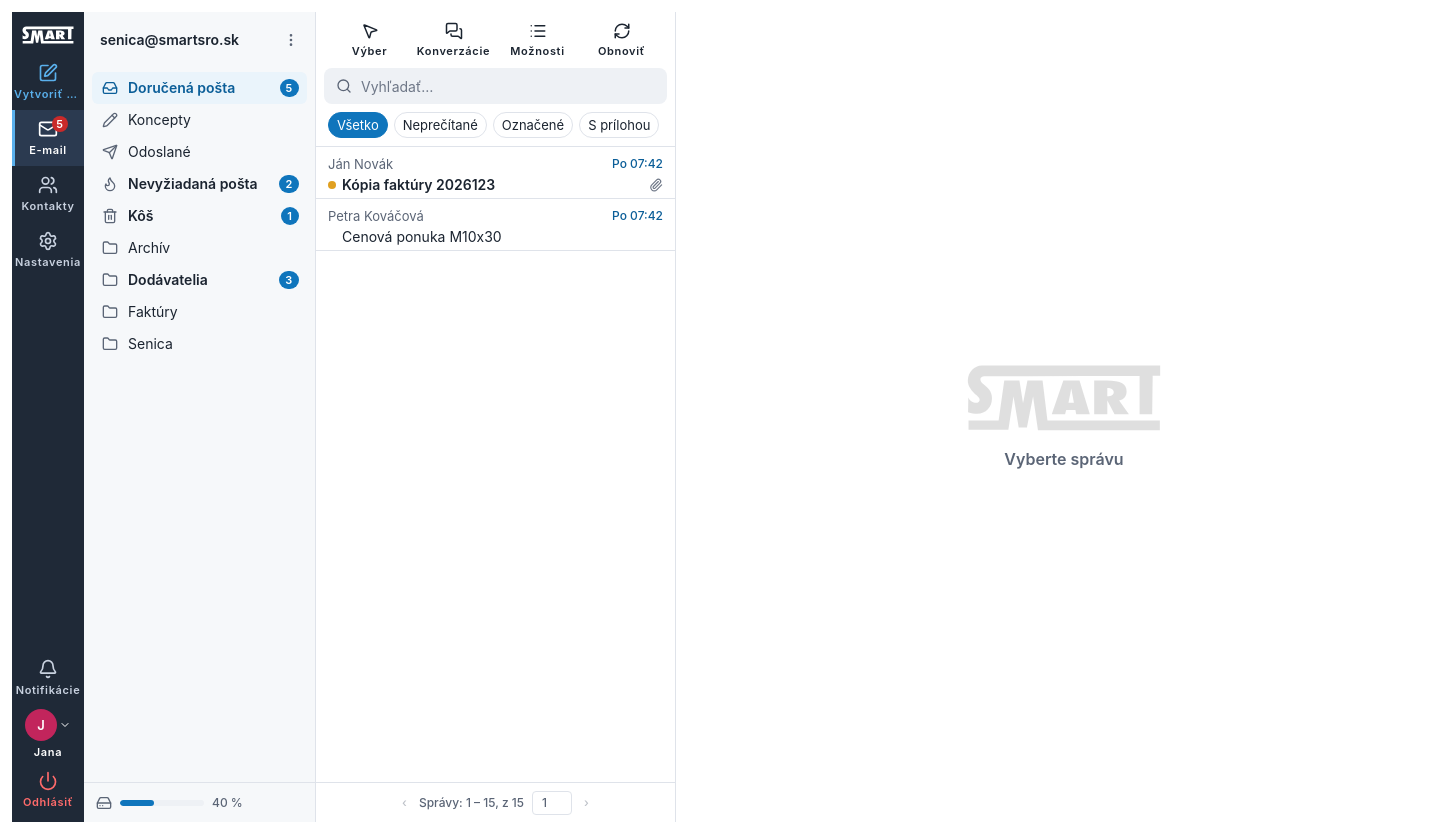
Test: W2b PersonChip › W2b one click in "Kto pracuje?" switches the person and shows the toast
This screenshot has width=1452, height=822.
Click the button with aria-label "Pracuje: Jana Nováková" at point(48, 734), box [12,704,84,764]
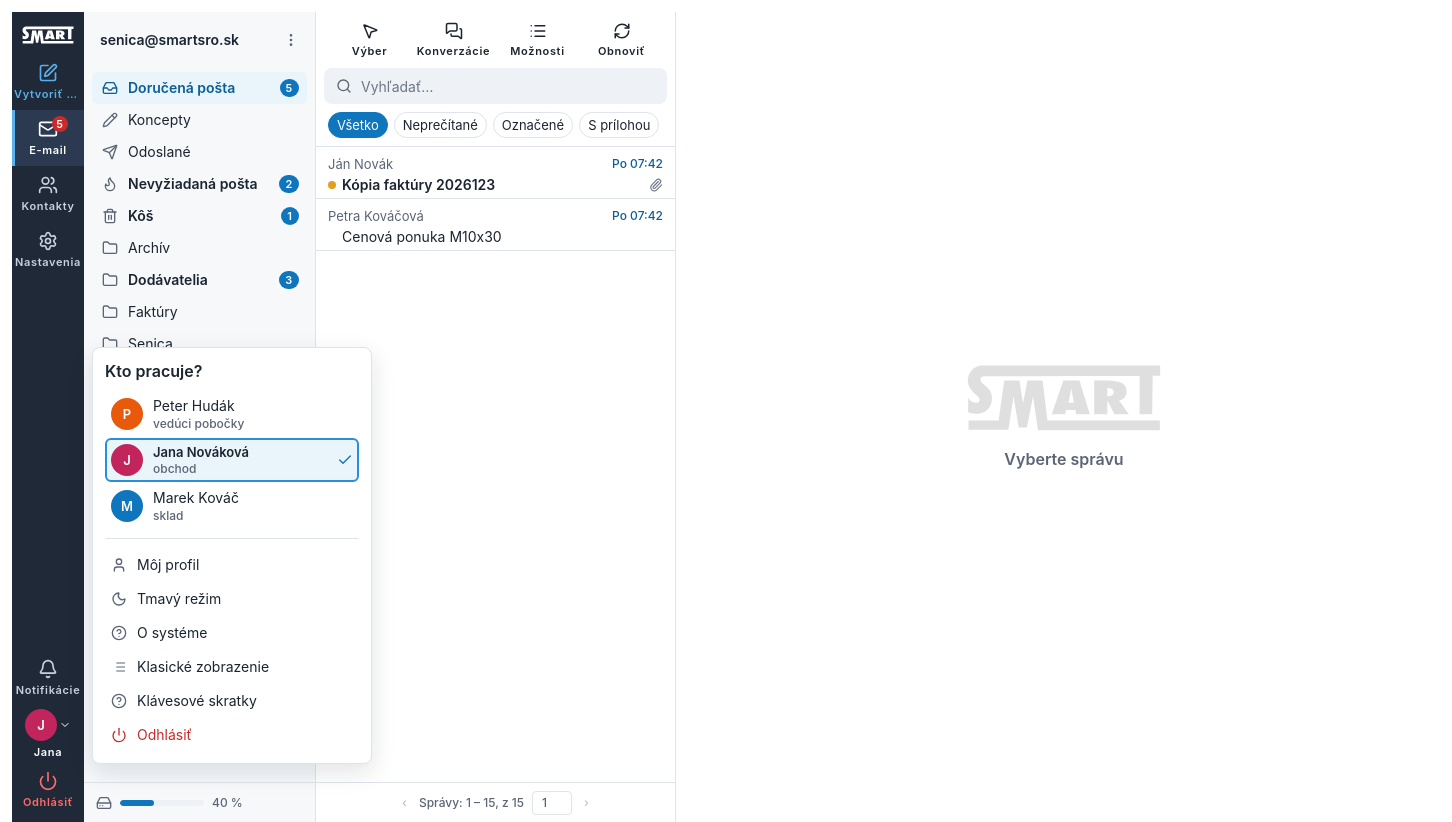
Check: the menu "Kto pracuje?" is shown, box [92,347,372,764]
Click the menu item "P Peter Hudák vedúci pobočky" at point(232, 414), box [105,392,359,436]
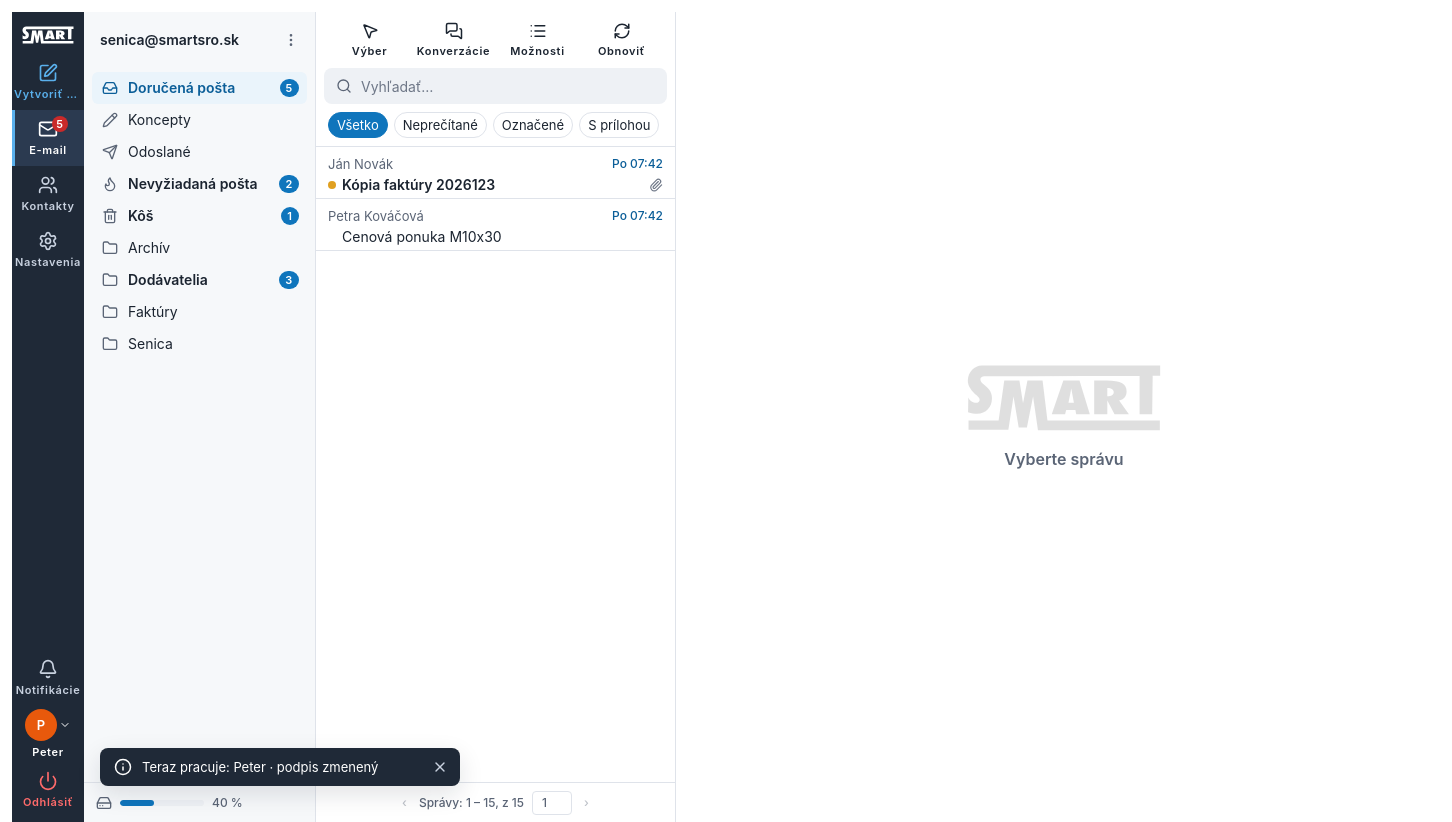
Check: the message reads "Teraz pracuje: Peter · podpis zmenený", box [142,759,378,775]
Check: the button with aria-label "Pracuje: Peter Hudák" is shown, box [12,704,84,764]
